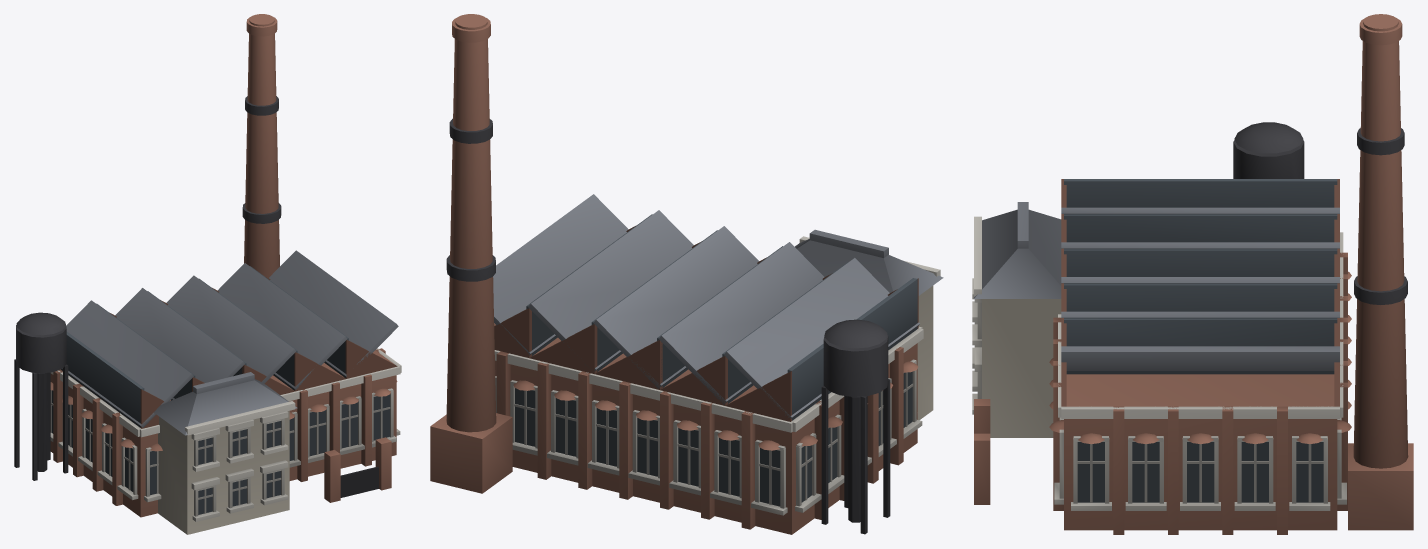
The model's file is factory_industrial.glb.
The picture shows the model from 3 angles, left to right: view 1: azimuth 30°, elevation 25°; view 2: azimuth 150°, elevation 25°; view 3: azimuth 270°, elevation 25°; orthographic projection. The views are drawn at different scales.
Parts seen in each view (by area): view 1: Body_Detail, Body_Wall; view 2: Body_Detail, Body_Wall; view 3: Body_Detail, Body_Wall.
Part boxes in pixels (box(x1,y1,x2,y2)): Body_Detail: box(14, 14, 401, 521); Body_Wall: box(158, 411, 289, 534); Body_Detail: box(430, 14, 943, 534); Body_Wall: box(917, 286, 933, 420); Body_Detail: box(972, 14, 1413, 534); Body_Wall: box(982, 299, 1061, 437).
Bounding box in the file's own units: 1.83 × 2 × 1.62.
